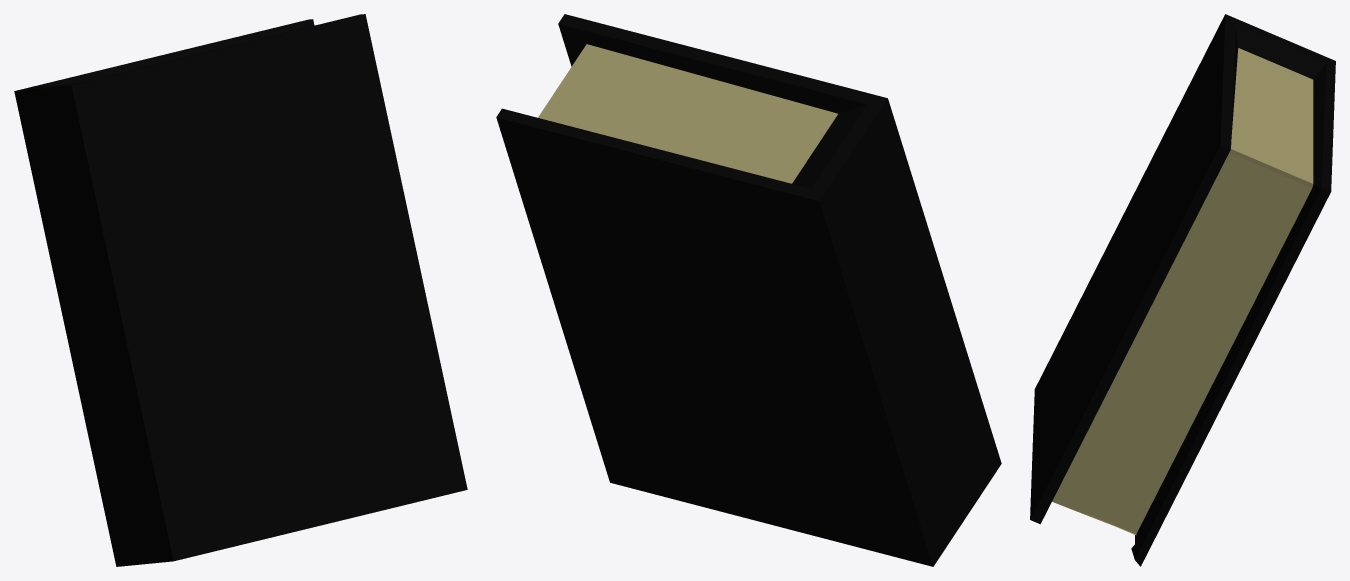
The model's file is libro_soccermanish.fbx.
3 renders of one model, left to right at view 1: azimuth 30°, elevation 25°; view 2: azimuth 150°, elevation 25°; view 3: azimuth 270°, elevation 25°, orthographic. The views are drawn at different scales.
Parts seen in each view (by area): view 1: Grimoire; view 2: Grimoire; view 3: Grimoire.
Part boxes in pixels (x1=…): Grimoire: x1=14, y1=14, x2=467, y2=566; Grimoire: x1=496, y1=14, x2=1001, y2=566; Grimoire: x1=1030, y1=14, x2=1335, y2=566.
Size of the model in its own units: 211 by 311 by 203.
